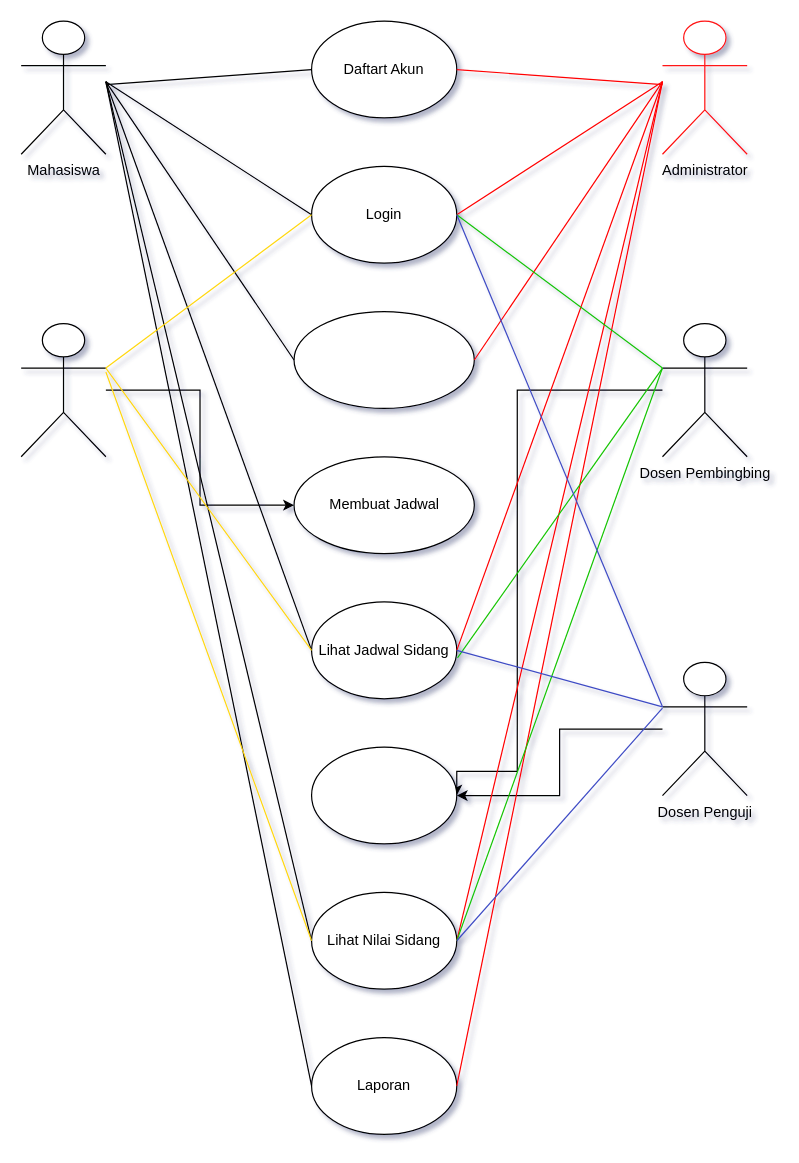
Some shapes in this 799 by 1163 pixel diagram are drawn without their labels. Each missing label, with the centre of its shape:
1. Daftart Sidang Proposal 2. Sidang Skripsi: point 383,359
Kaprodi: point 63,389
Menilai Sidang: point 383,795
